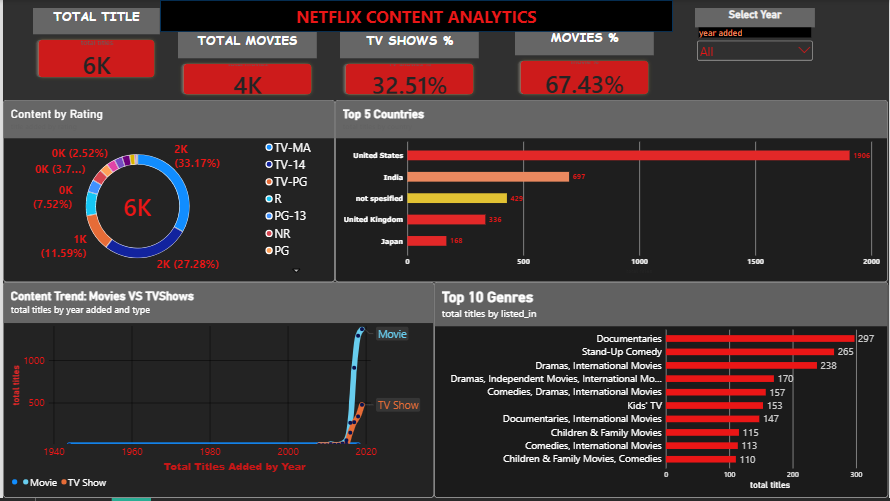

What the dashboard file says about the page in this screenshot:
{"tool":"powerbi","page":{"name":"Page 1","canvas":[1920,1080],"ordinal":0},"visuals":[{"type":"cardVisual","title":"TOTAL TITLE","fields":{"Data":["1761810487-netflix_titles_nov_2019 (2).total titles"]},"box":[46.5,100,302.4,181.4],"z":0},{"type":"cardVisual","title":"TOTAL MOVIES","fields":{"Data":["1761810487-netflix_titles_nov_2019 (2).total movies"]},"box":[379.1,100,302.4,181.4],"z":1000},{"type":"cardVisual","title":"TV SHOWS %","fields":{"Data":["1761810487-netflix_titles_nov_2019 (2).TV showes %"]},"box":[1411.8,878.3,302.4,181.4],"z":2000},{"type":"lineChart","title":"Content Trend: Movies VS TVShows","fields":{"Category":["1761810487-netflix_titles_nov_2019 (2).year added"],"Series":["1761810487-netflix_titles_nov_2019 (2).type"],"Y":["1761810487-netflix_titles_nov_2019 (2).total titles"]},"box":[45.5,566,915.2,514],"z":3001},{"type":"clusteredBarChart","title":"Top 10 Genres","fields":{"Category":["1761810487-netflix_titles_nov_2019 (2).listed_in"],"Y":["1761810487-netflix_titles_nov_2019 (2).total titles"]},"box":[960.7,566,900,514],"z":3002},{"type":"cardVisual","title":"MOVIES %","fields":{"Data":["1761810487-netflix_titles_nov_2019 (2).movie %"]},"box":[1108.2,99.8,302.4,181.4],"z":3003},{"type":"donutChart","title":"Content by Rating","fields":{"Category":["1761810487-netflix_titles_nov_2019 (2).rating"],"Y":["1761810487-netflix_titles_nov_2019 (2).title added"]},"box":[881.4,281.4,977.6,259.5],"z":3004},{"type":"clusteredBarChart","title":"Top 5 Countries","fields":{"Category":["1761810487-netflix_titles_nov_2019 (2).country"],"Y":["1761810487-netflix_titles_nov_2019 (2).total titles"]},"box":[0,0,834.9,284.1],"z":3005},{"type":"slicer","title":"Select Year","fields":{"Values":["1761810487-netflix_titles_nov_2019 (2).year added"]},"box":[1490.7,100,348.8,181.4],"z":3006},{"type":"shape","box":[379.1,0,1111.6,83.7],"z":3007}]}

Visuals, with their boxes in screenshot pixels (x1, y1, x2, y2), scaled from the page's 1920x1080 canvas onto the 890x501 screenshot:
"TOTAL TITLE" cardVisual: [22,46,162,131]
"TOTAL MOVIES" cardVisual: [176,46,316,131]
"TV SHOWS %" cardVisual: [654,407,795,492]
"Content Trend: Movies VS TVShows" lineChart: [21,263,445,500]
"Top 10 Genres" clusteredBarChart: [445,263,863,500]
"MOVIES %" cardVisual: [514,46,654,130]
"Content by Rating" donutChart: [409,131,862,251]
"Top 5 Countries" clusteredBarChart: [0,0,387,132]
"Select Year" slicer: [691,46,853,131]
shape: [176,0,691,39]
